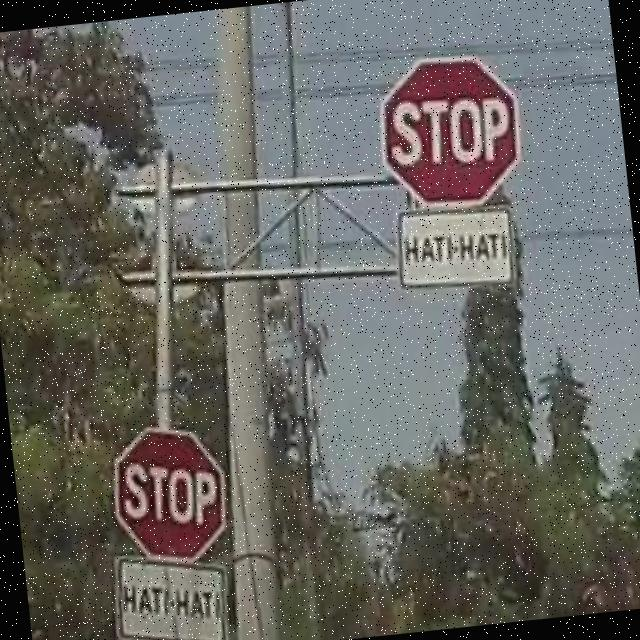Stop: (372, 48, 528, 215), (105, 422, 232, 568)
